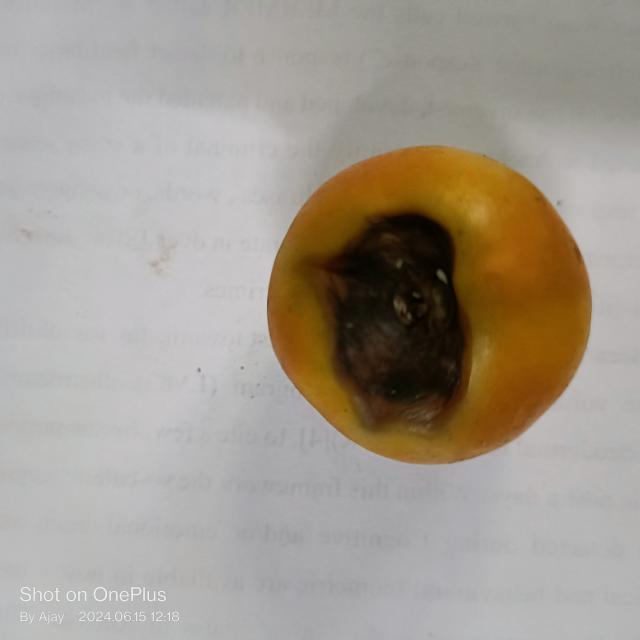Anthrocnose: (331, 211, 468, 433)
